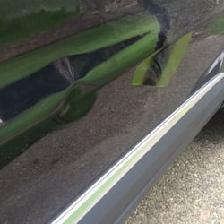dent: (48, 55, 82, 85)
